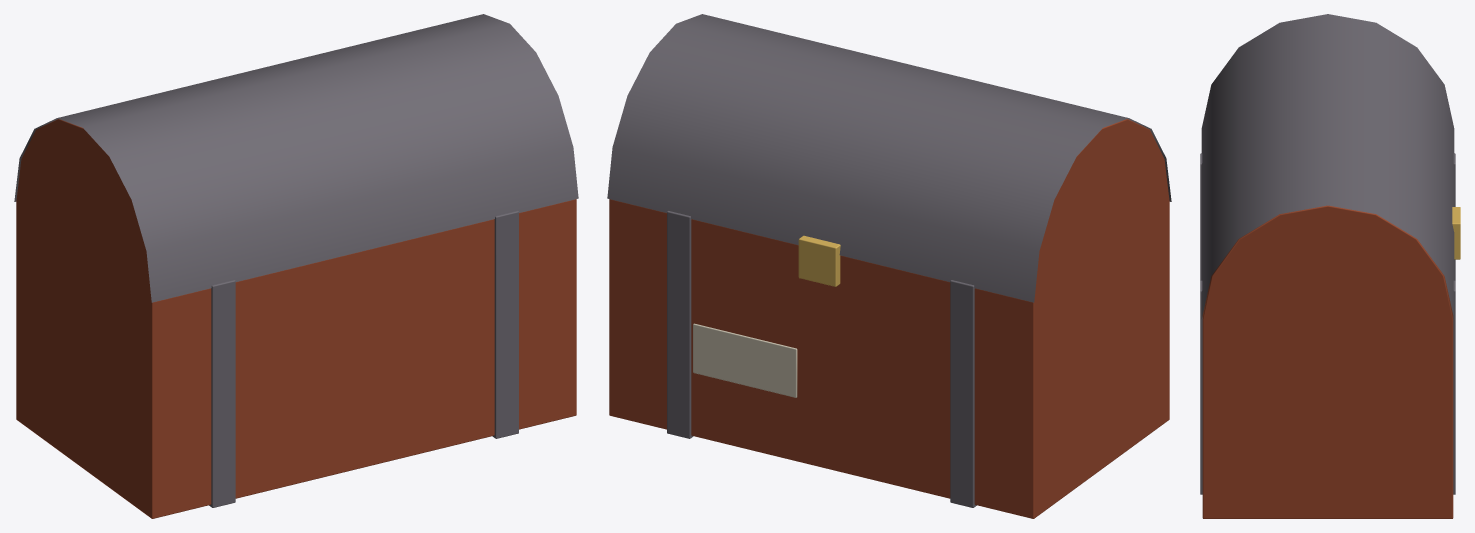
File: SM_PRP_Bau.fbx
3 renders of one model, left to right at view 1: azimuth 30°, elevation 25°; view 2: azimuth 150°, elevation 25°; view 3: azimuth 270°, elevation 25°, orthographic. The views are drawn at different scales.
Parts seen in each view (by area): view 1: SM_PRP_Bau; view 2: SM_PRP_Bau; view 3: SM_PRP_Bau.
Part boxes in pixels (bbox=[...]): SM_PRP_Bau: bbox=[14, 14, 578, 518]; SM_PRP_Bau: bbox=[607, 14, 1171, 518]; SM_PRP_Bau: bbox=[1200, 14, 1460, 518].
Bounding box in the file's own units: 0.904 × 0.697 × 0.52.
